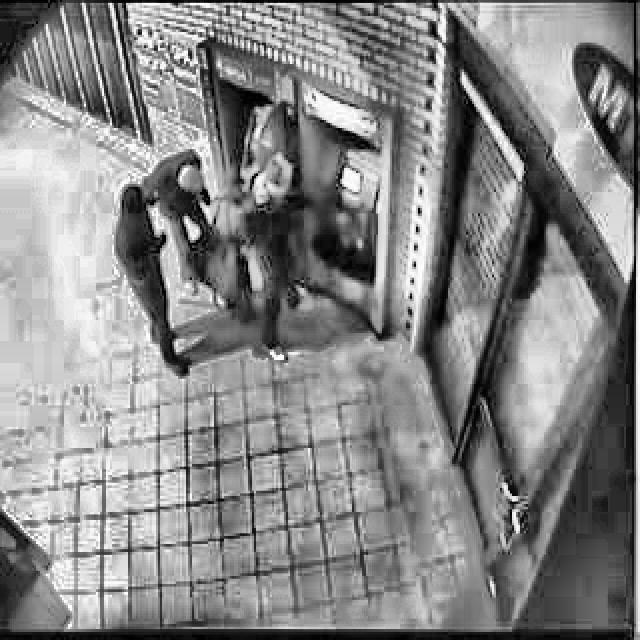burglary: (115, 89, 386, 384)
